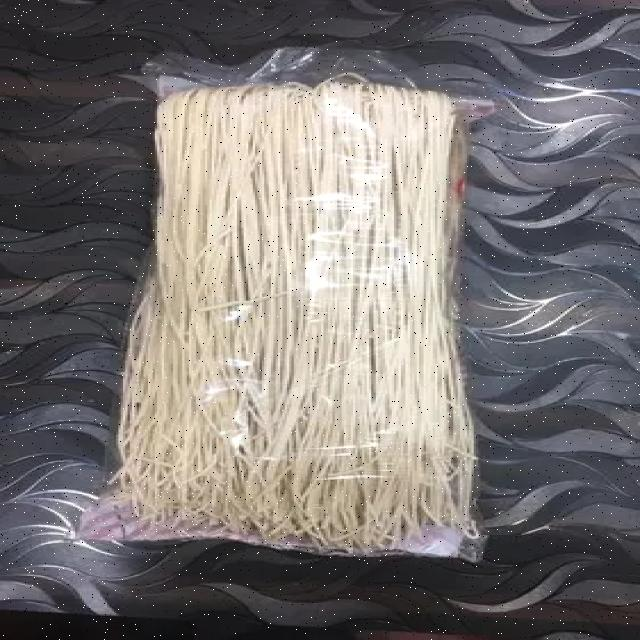Noodles: (148, 80, 484, 548)
